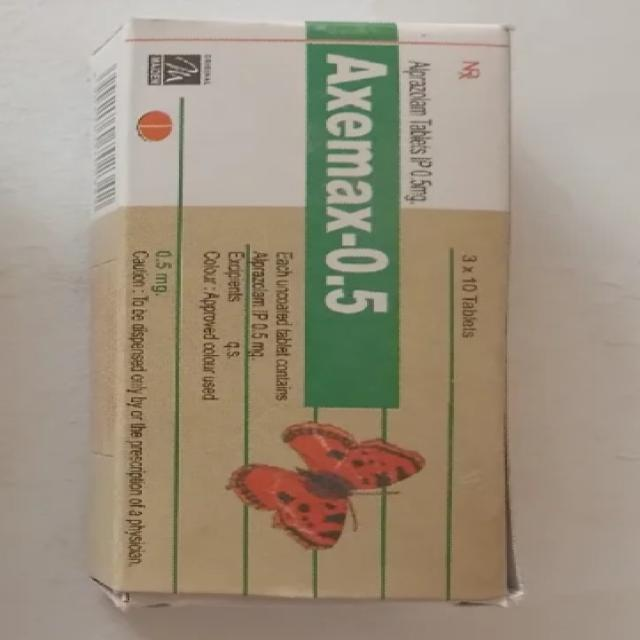drug-name: (321, 50, 390, 319)
